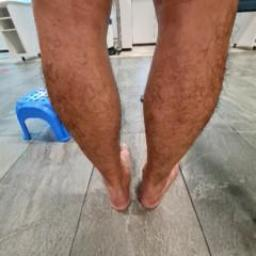Back View -Both Feet-: (59, 120, 210, 223)
